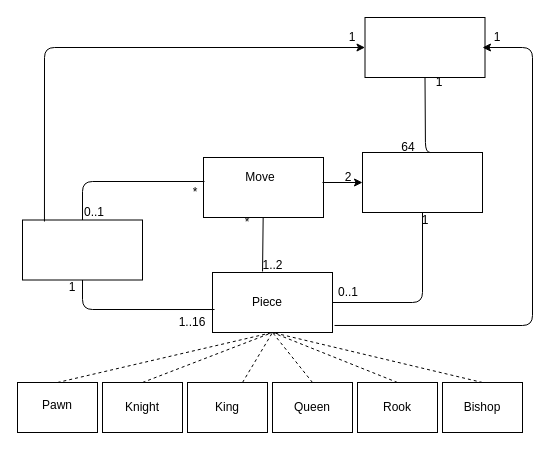
Some shapes in this 558 by 450 pixel diagram are drawn without their labels. The centre of each missing label's shape, as x and y in pixels:
"Board" belongs at pixel 424 47.
"Player" belongs at pixel 82 249.
"Square" belongs at pixel 422 182.
